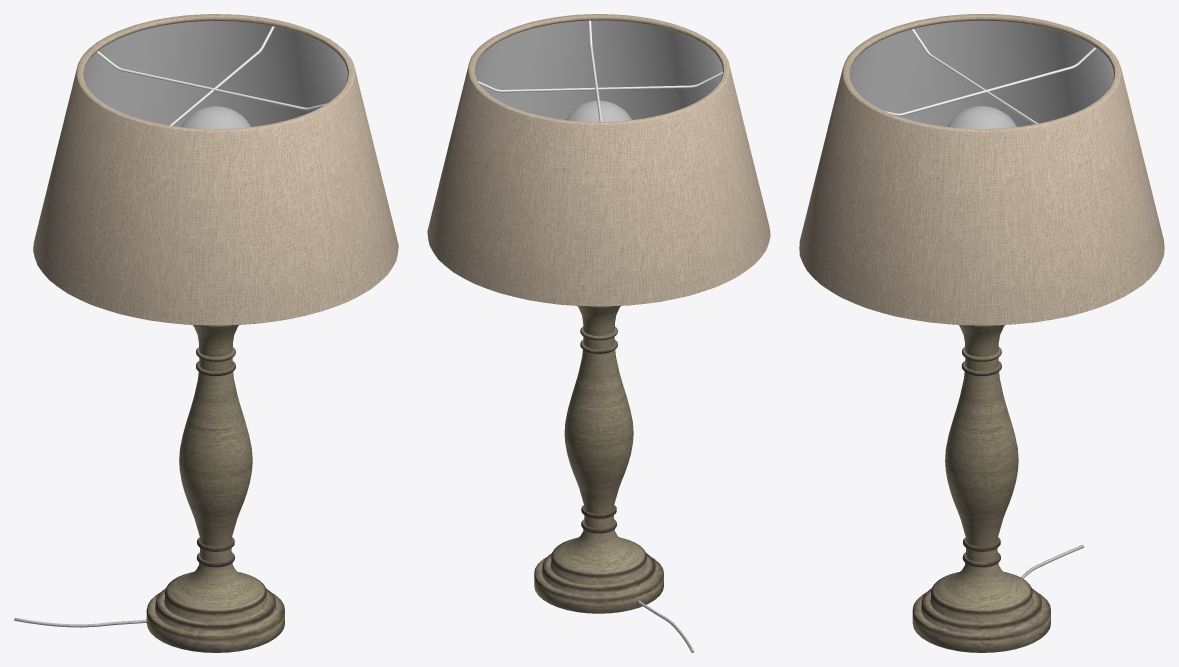
The model's file is lamp.gltf.
3 renders of one model, left to right at view 1: azimuth 30°, elevation 25°; view 2: azimuth 150°, elevation 25°; view 3: azimuth 270°, elevation 25°, orthographic. The views are drawn at different scales.
Visible parts, largest first — view 1: _Lamp__Fabric5Mesh, _Lamp__white1Mesh, _Lamp__Wood1Mesh, _Lamp__Glass7Mesh; view 2: _Lamp__Fabric5Mesh, _Lamp__white1Mesh, _Lamp__Wood1Mesh, _Lamp__Glass7Mesh; view 3: _Lamp__Fabric5Mesh, _Lamp__white1Mesh, _Lamp__Wood1Mesh, _Lamp__Glass7Mesh.
Boxes of the visible parts, bbox=[...] form: _Lamp__Fabric5Mesh: bbox=[33, 14, 398, 325]; _Lamp__white1Mesh: bbox=[84, 21, 347, 128]; _Lamp__Wood1Mesh: bbox=[146, 325, 284, 652]; _Lamp__Glass7Mesh: bbox=[181, 106, 250, 128]; _Lamp__Fabric5Mesh: bbox=[427, 14, 770, 306]; _Lamp__white1Mesh: bbox=[475, 20, 722, 121]; _Lamp__Wood1Mesh: bbox=[534, 306, 663, 613]; _Lamp__Glass7Mesh: bbox=[566, 100, 631, 121]; _Lamp__Fabric5Mesh: bbox=[799, 14, 1164, 325]; _Lamp__white1Mesh: bbox=[850, 21, 1113, 128]; _Lamp__Wood1Mesh: bbox=[912, 325, 1050, 652]; _Lamp__Glass7Mesh: bbox=[947, 106, 1016, 128].
Bounding box in the file's own units: 0.3 × 0.5001 × 0.3.
Materials: 7 (2 with a texture image).
